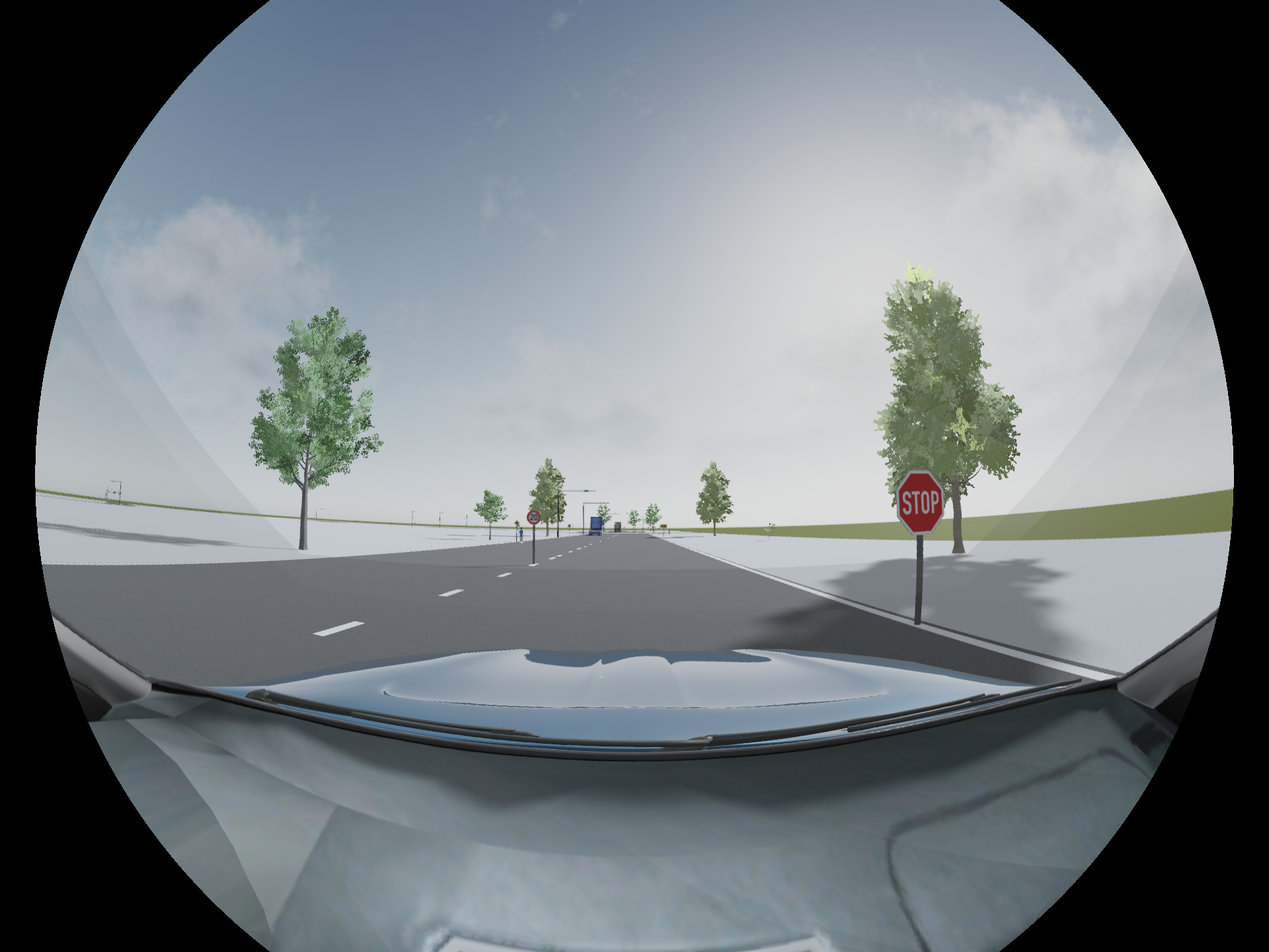Stop: (897, 468, 944, 533)
